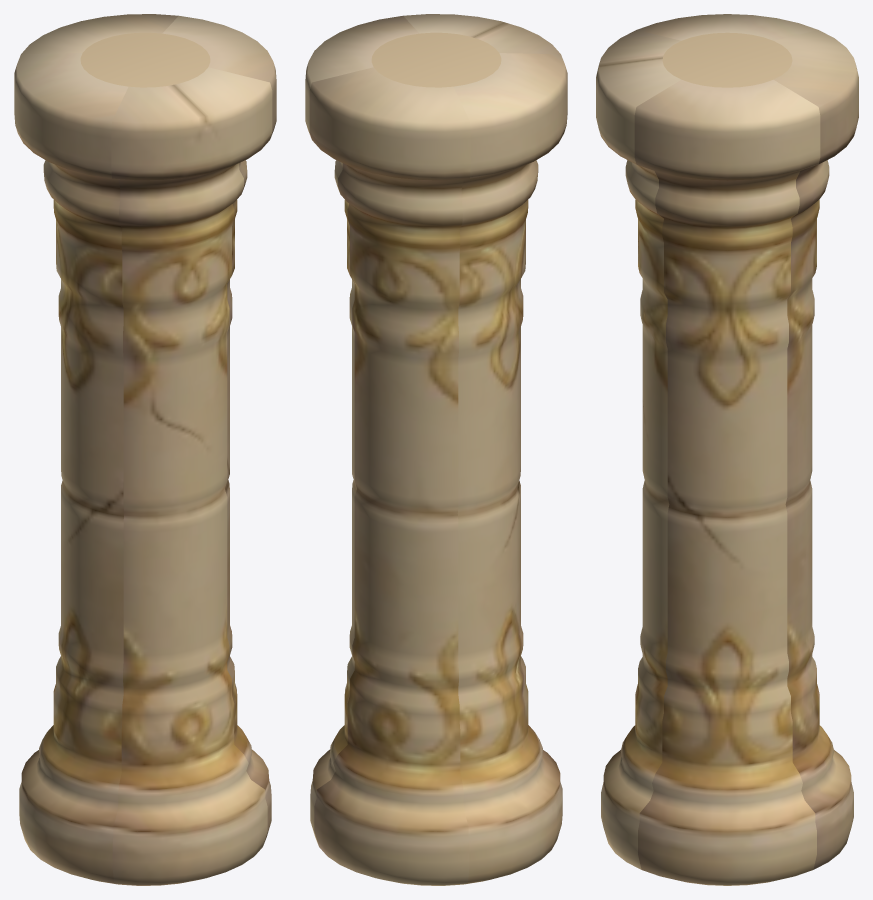
Rendered from arena-pillar.glb.
The picture shows the model from 3 angles, left to right: view 1: azimuth 30°, elevation 25°; view 2: azimuth 150°, elevation 25°; view 3: azimuth 270°, elevation 25°; orthographic projection.
Visible parts, largest first — view 1: piece; view 2: piece; view 3: piece.
Boxes of the visible parts, bbox=[...] form: piece: bbox=[14, 14, 276, 885]; piece: bbox=[305, 14, 567, 885]; piece: bbox=[596, 14, 858, 885].
Size of the model in its own units: 1.45 by 4.8 by 1.45.
Materials: 1 (1 with a texture image).
